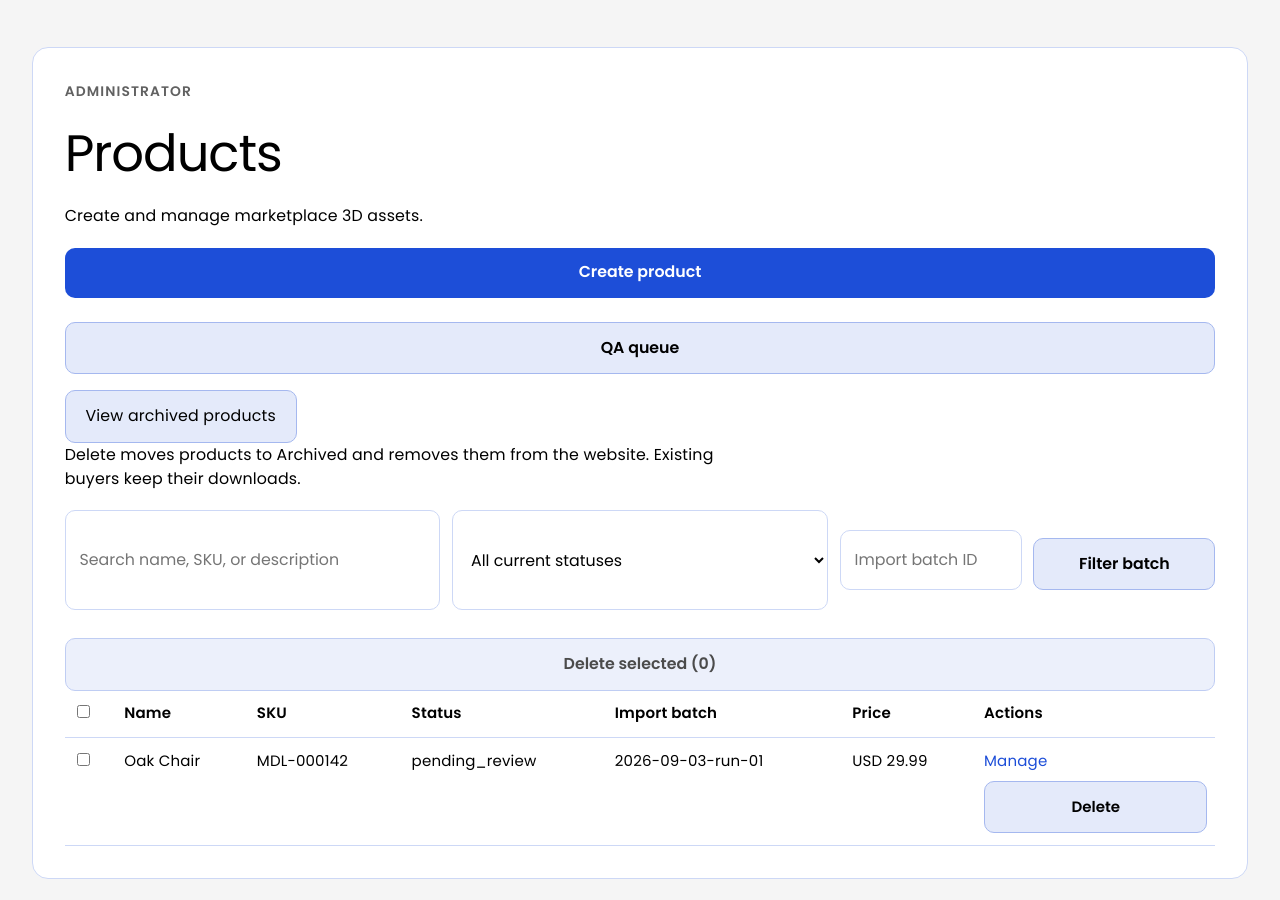
Test: AdminProductsPage › moves a deleted row into Archived and hides deletion controls there
Click the button with aria-label "Delete Oak Chair" at point(1096, 807), box [984, 781, 1208, 834]
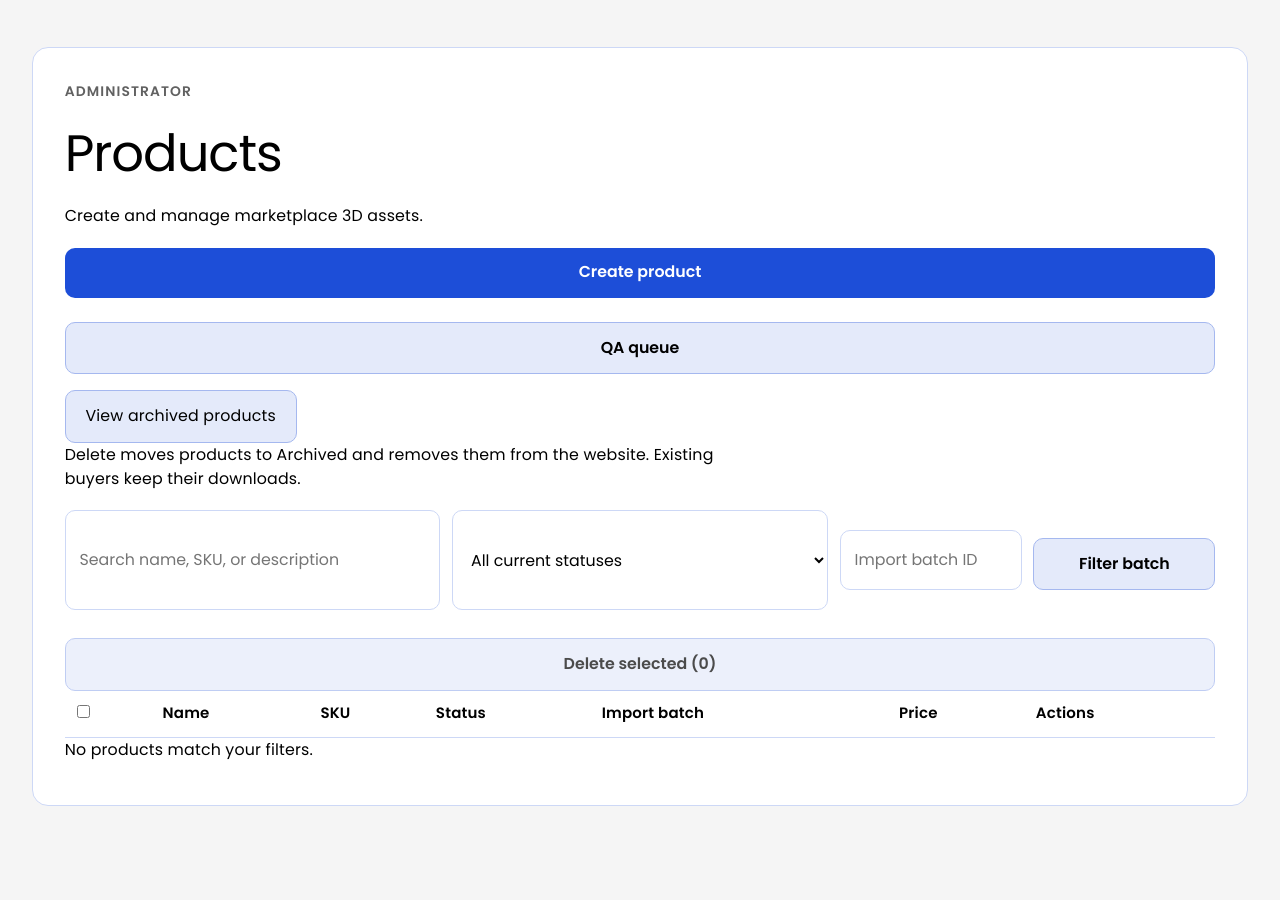
Result: the text "Oak Chair" is gone
Click the link "View archived products" at point(181, 417), box [65, 390, 297, 443]
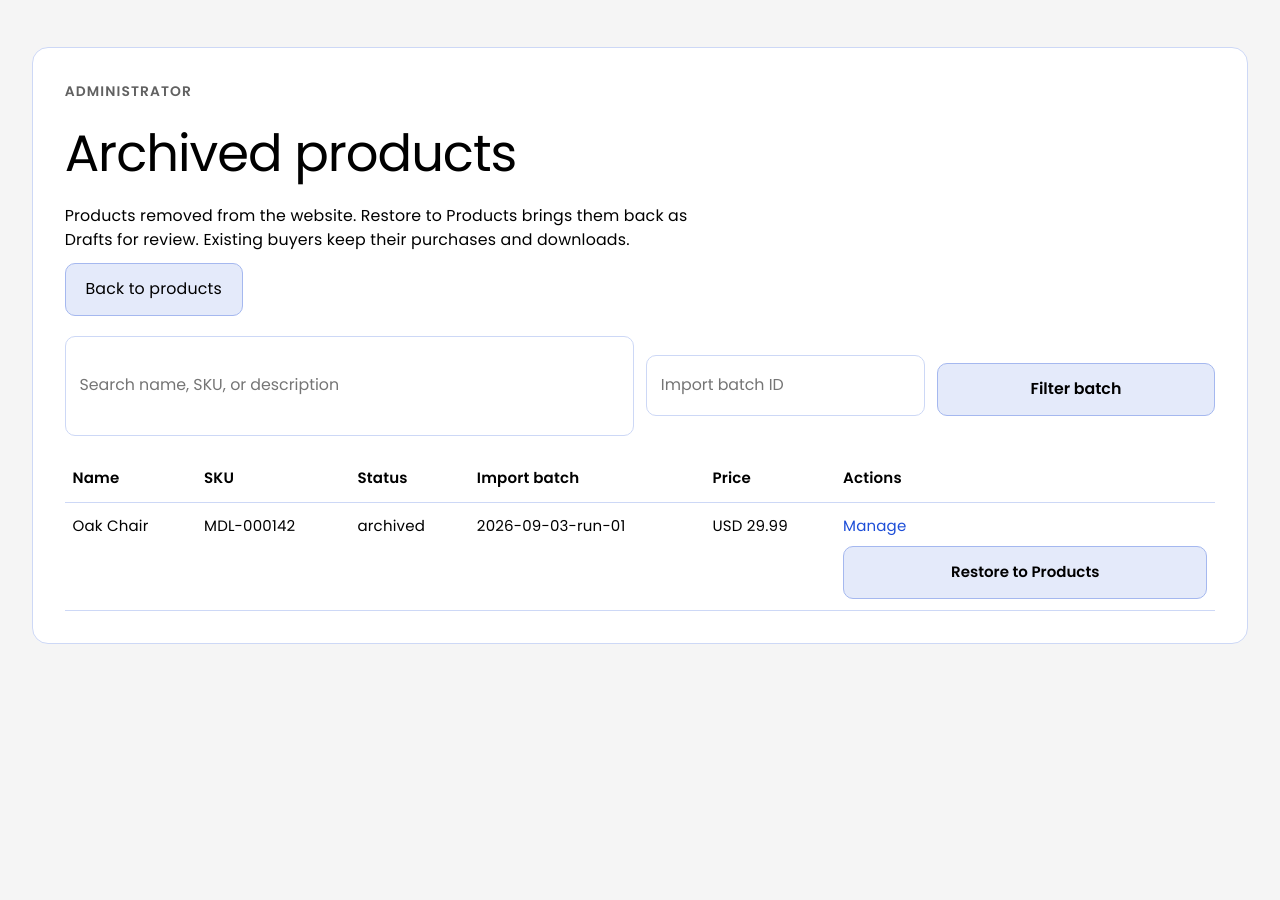
Result: the heading "Archived products" is shown at [65, 117, 516, 189]
Result: the text "Oak Chair" is shown at [65, 503, 196, 611]
Result: the text "Delete" is gone
